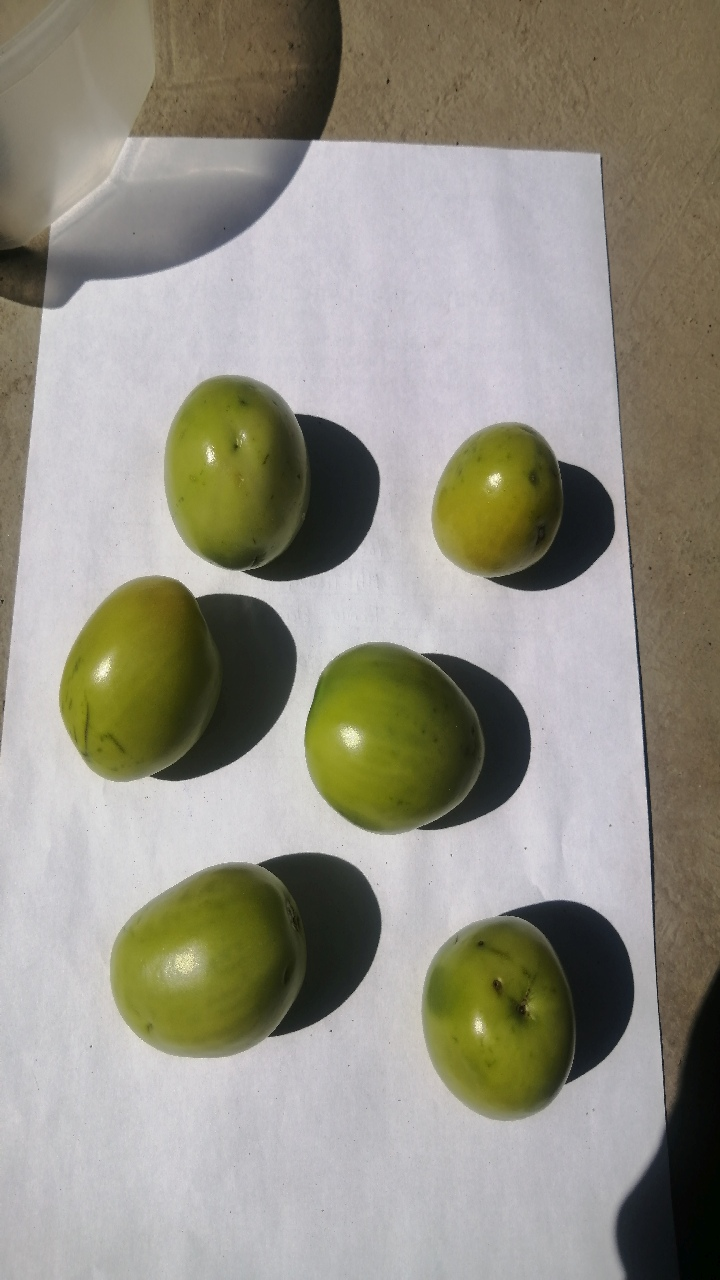tomateVerde: (83, 839, 315, 1072), (289, 606, 492, 855), (134, 346, 344, 583), (32, 559, 248, 788), (409, 903, 598, 1134), (411, 400, 583, 603)
